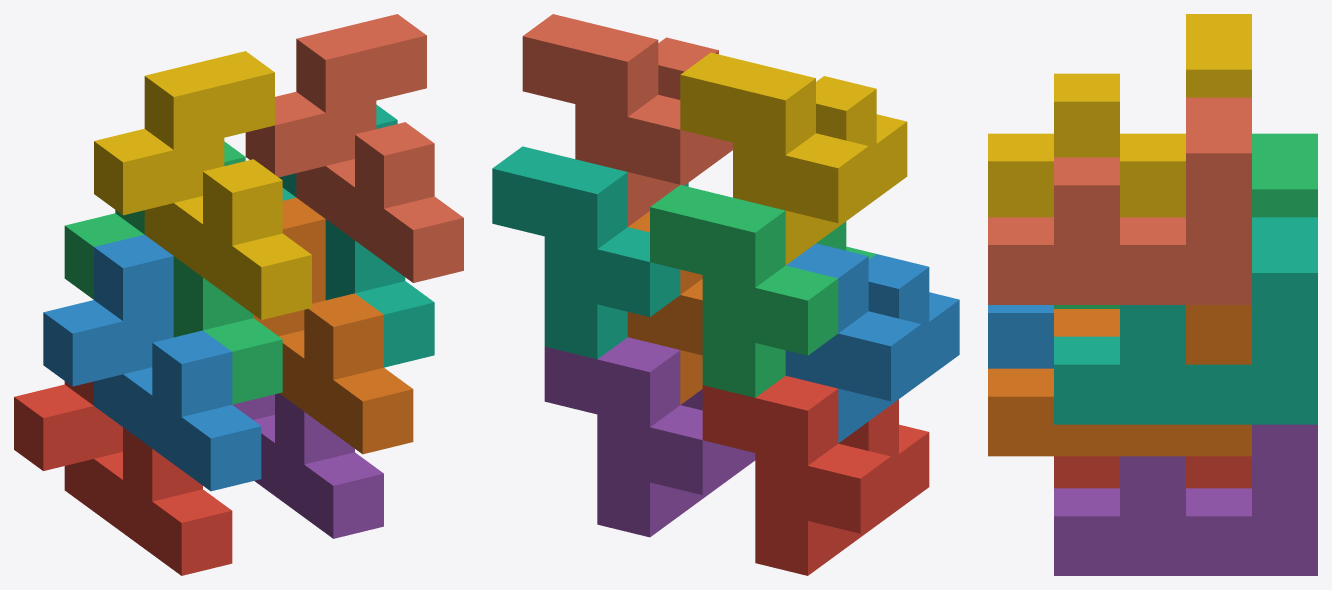
Rendered from tiling.obj.
The picture shows the model from 3 angles, left to right: view 1: azimuth 30°, elevation 25°; view 2: azimuth 150°, elevation 25°; view 3: azimuth 270°, elevation 25°; orthographic projection. The views are drawn at different scales.
Visible parts, largest first — view 1: copy_1_domain_4, copy_1_domain_8, copy_1_domain_2, copy_1_domain_1, copy_1_domain_6, copy_1_domain_5, copy_1_domain_3, copy_1_domain_7; view 2: copy_1_domain_4, copy_1_domain_1, copy_1_domain_3, copy_1_domain_7, copy_1_domain_8, copy_1_domain_5, copy_1_domain_2, copy_1_domain_6; view 3: copy_1_domain_8, copy_1_domain_7, copy_1_domain_5, copy_1_domain_4, copy_1_domain_6, copy_1_domain_3, copy_1_domain_1, copy_1_domain_2.
Boxes of the visible parts, x1=… form: copy_1_domain_4: x1=94, y1=51, x2=311, y2=319; copy_1_domain_8: x1=245, y1=14, x2=463, y2=282; copy_1_domain_2: x1=43, y1=234, x2=261, y2=491; copy_1_domain_1: x1=14, y1=381, x2=232, y2=575; copy_1_domain_6: x1=253, y1=197, x2=413, y2=454; copy_1_domain_5: x1=232, y1=393, x2=383, y2=538; copy_1_domain_3: x1=64, y1=141, x2=282, y2=404; copy_1_domain_7: x1=279, y1=104, x2=434, y2=367; copy_1_domain_4: x1=680, y1=52, x2=907, y2=264; copy_1_domain_1: x1=702, y1=376, x2=929, y2=575; copy_1_domain_3: x1=650, y1=185, x2=876, y2=397; copy_1_domain_7: x1=492, y1=146, x2=688, y2=359; copy_1_domain_8: x1=522, y1=14, x2=732, y2=226; copy_1_domain_5: x1=544, y1=337, x2=755, y2=537; copy_1_domain_2: x1=785, y1=243, x2=959, y2=443; copy_1_domain_6: x1=627, y1=211, x2=702, y2=404; copy_1_domain_8: x1=988, y1=97, x2=1251, y2=304; copy_1_domain_7: x1=1054, y1=217, x2=1317, y2=424; copy_1_domain_5: x1=1054, y1=424, x2=1317, y2=575; copy_1_domain_4: x1=988, y1=14, x2=1251, y2=217; copy_1_domain_6: x1=988, y1=305, x2=1251, y2=456; copy_1_domain_3: x1=1054, y1=133, x2=1317, y2=308; copy_1_domain_1: x1=1054, y1=456, x2=1251, y2=488; copy_1_domain_2: x1=988, y1=305, x2=1053, y2=368.
Size of the model in its own units: 7 by 8 by 5.
